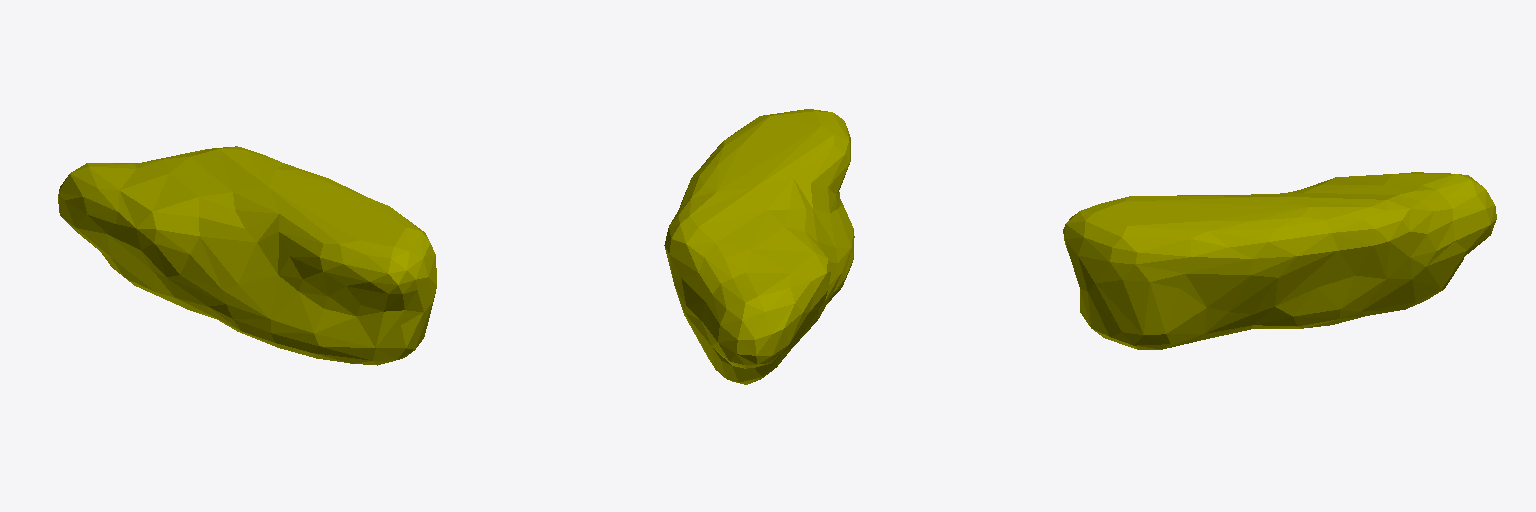
File: SpC.obj
The picture shows the model from 3 angles: view 1: azimuth 30°, elevation 25°; view 2: azimuth 150°, elevation 25°; view 3: azimuth 270°, elevation 25°; orthographic projection.
Parts seen in each view (by area): view 1: SpC_SpC.006; view 2: SpC_SpC.006; view 3: SpC_SpC.006.
Part boxes in pixels (x1,y1,x2,y2): SpC_SpC.006: (58,146,436,365); SpC_SpC.006: (664,109,854,384); SpC_SpC.006: (1063,172,1496,349).
Size of the model in its own units: 1.03 by 0.6322 by 1.86.